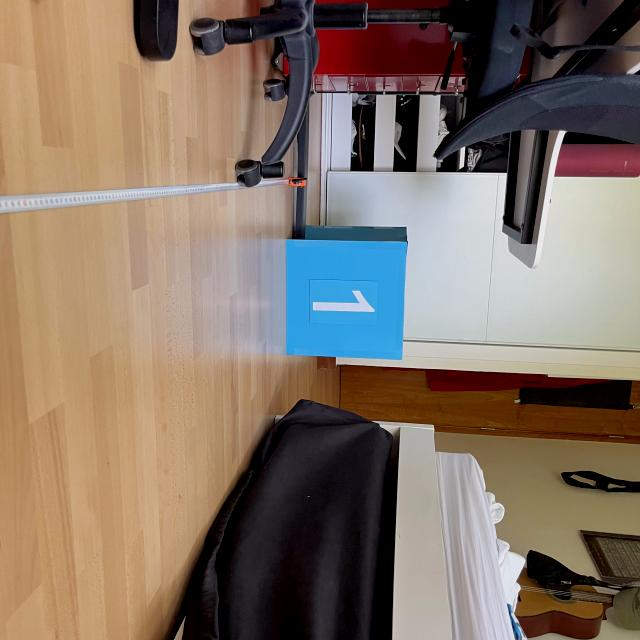box: (280, 225, 410, 362)
